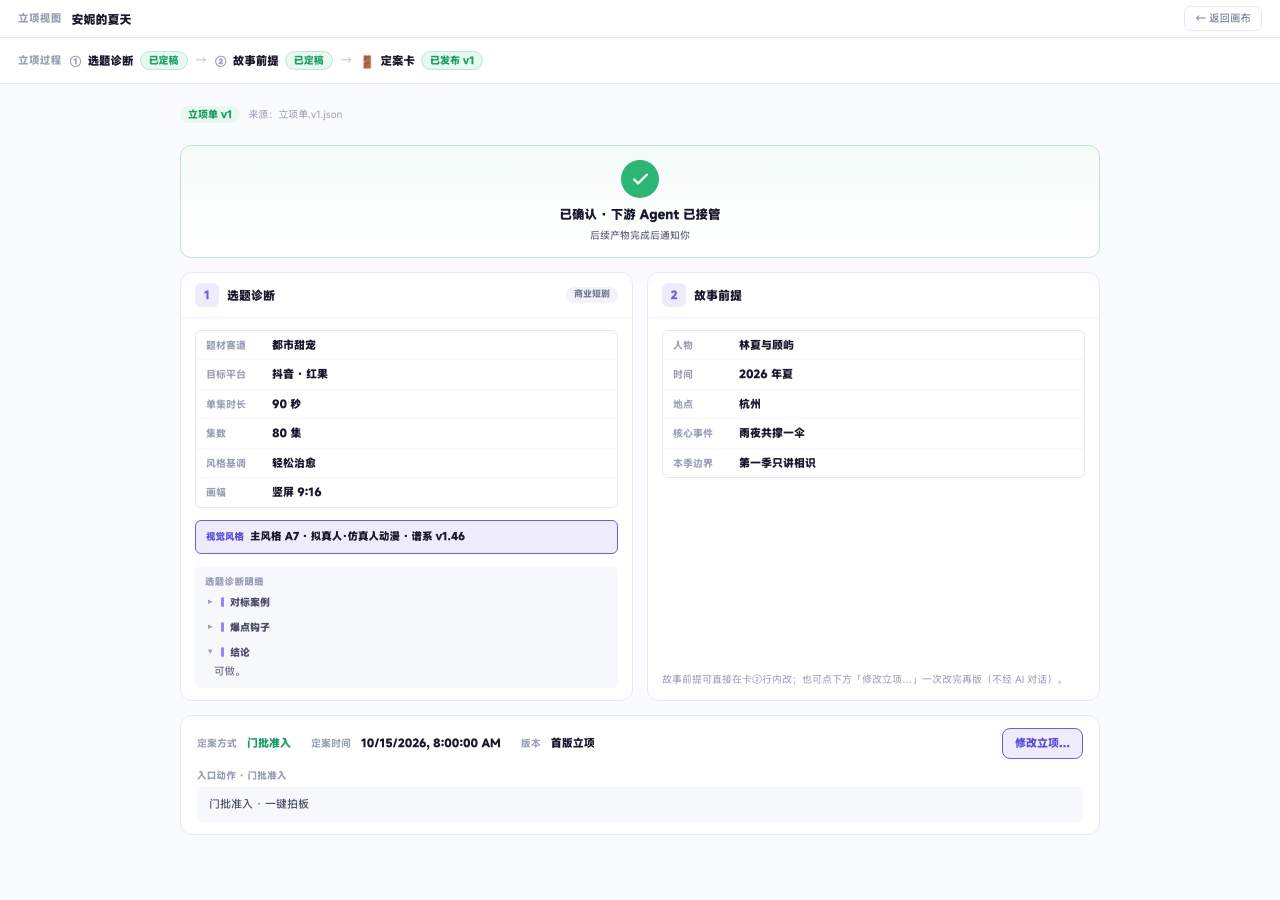
Test: Stage0View · 入口动作恒显与诊断明细（D-018） › 卡①诊断明细分节可折叠：默认仅「结论」节展开，节题行点击开合（B-35 遗留切片）
Check: the element showing "选题诊断明细 ▸ 对标案例 ▸ 爆点钩子 ▾ 结论 可做。" is shown, box [195, 566, 618, 688]
Check: the text "案例 A 播放破亿。" is not shown
# 点击节题行展开；再点收起
Click the button "▸ 对标案例" at (250, 602), box [205, 594, 604, 611]
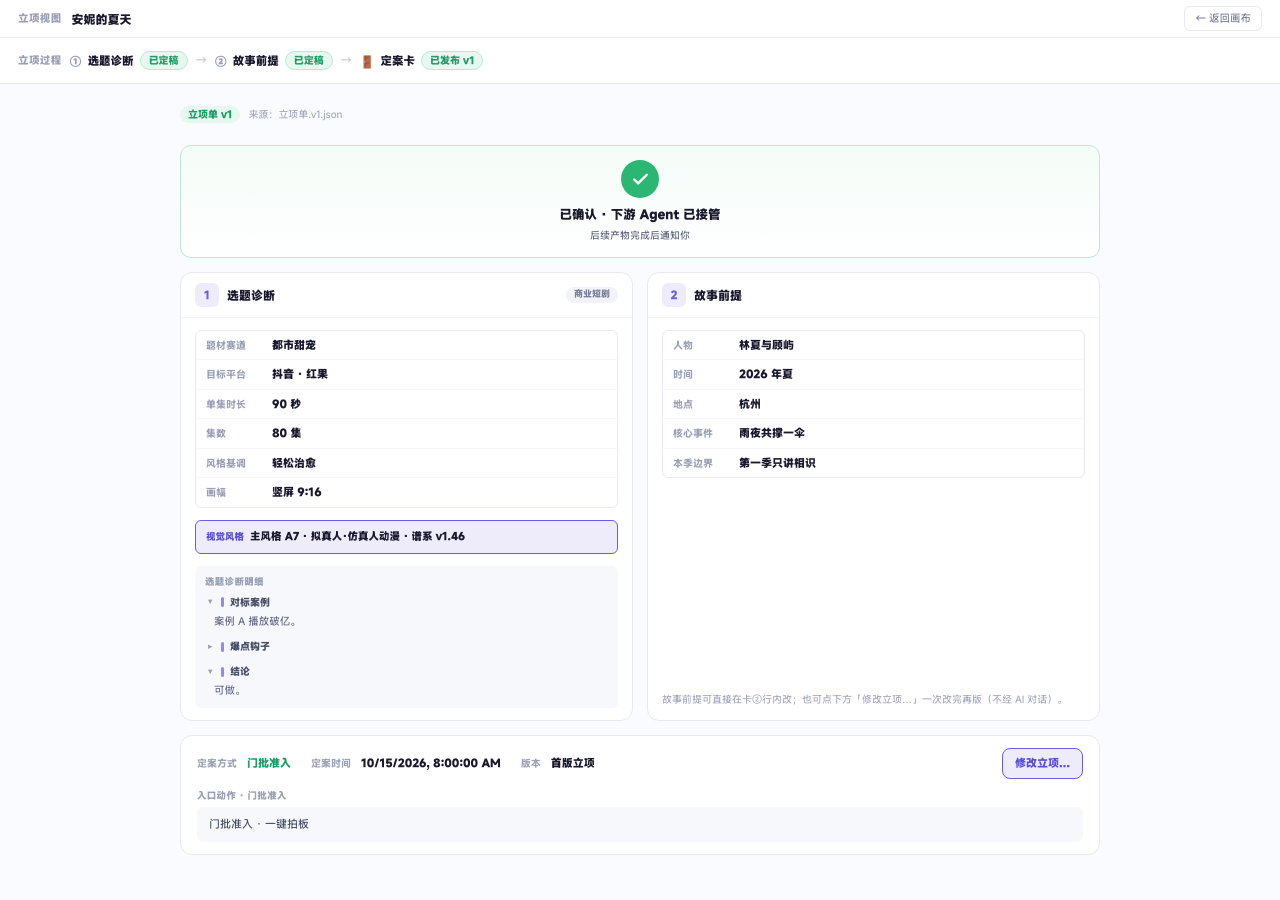
Check: the element showing "选题诊断明细 ▾ 对标案例 案例 A 播放破亿。 ▸ 爆点钩子 ▾ 结论 可做。" is shown, box [195, 566, 618, 708]
Click the button "▾ 对标案例" at (250, 602), box [205, 594, 604, 611]
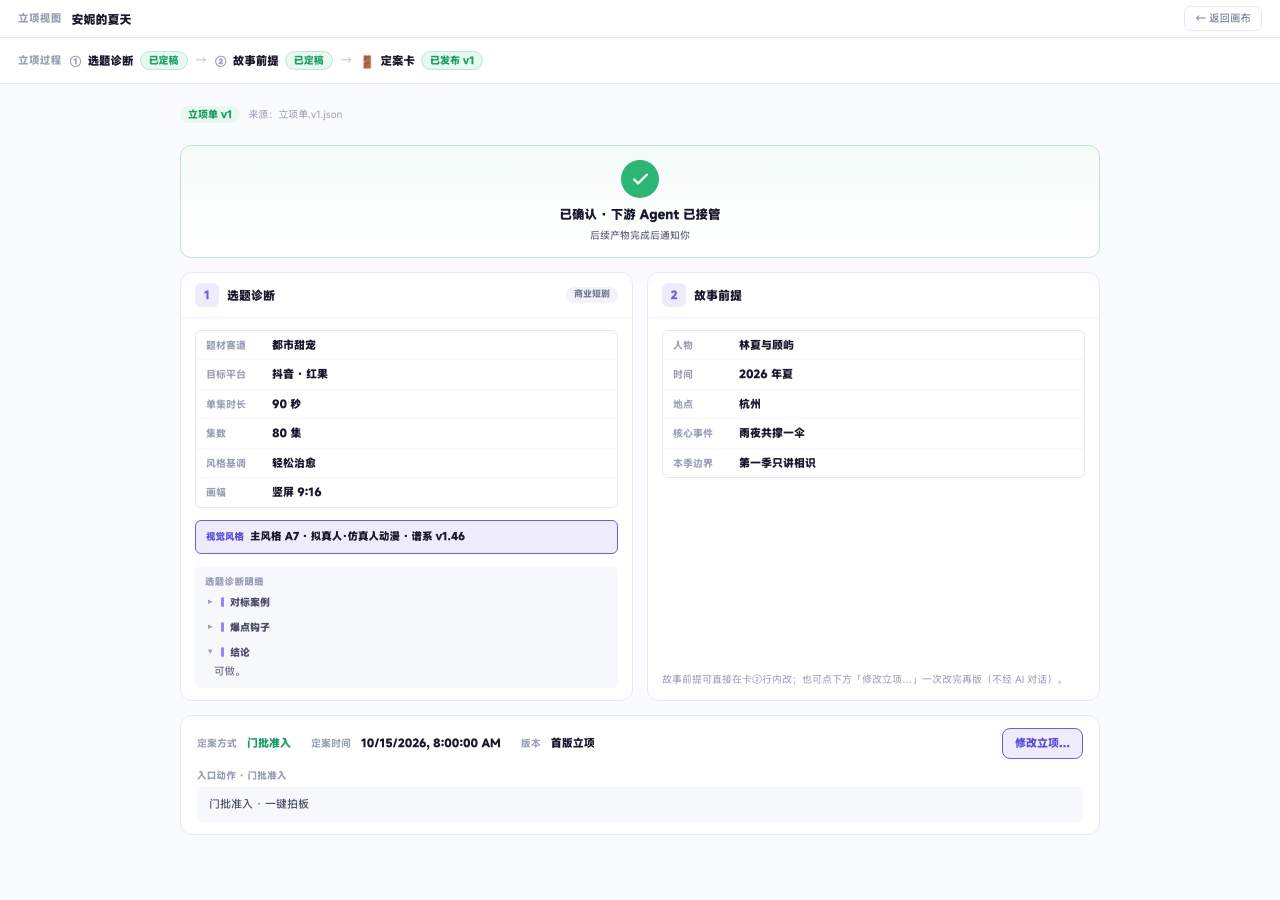
Check: the text "案例 A 播放破亿。" is gone
# 结论节也可手动收起
Click the button "▾ 结论" at (210, 651), box [205, 644, 604, 661]
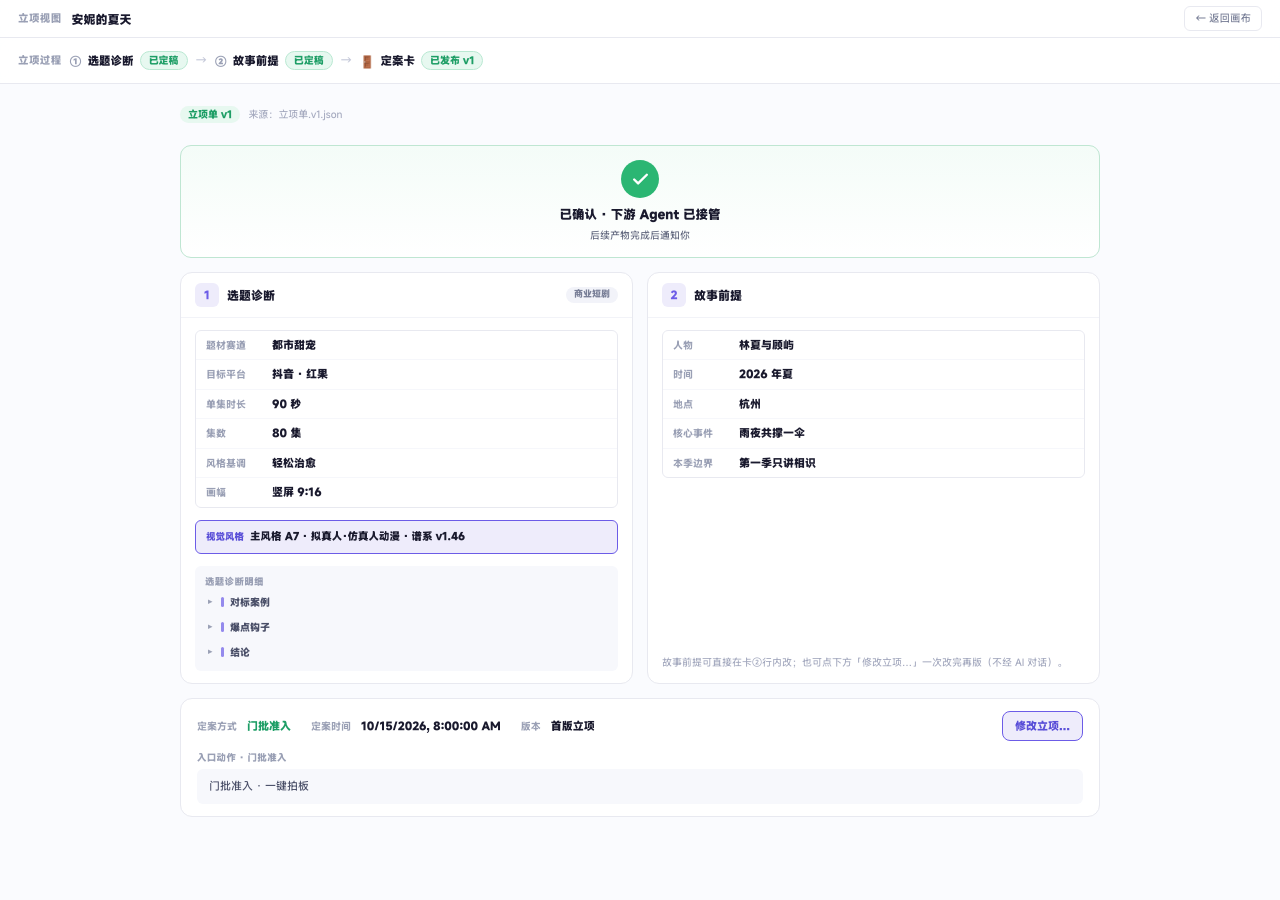
Check: the text "可做。" is gone
